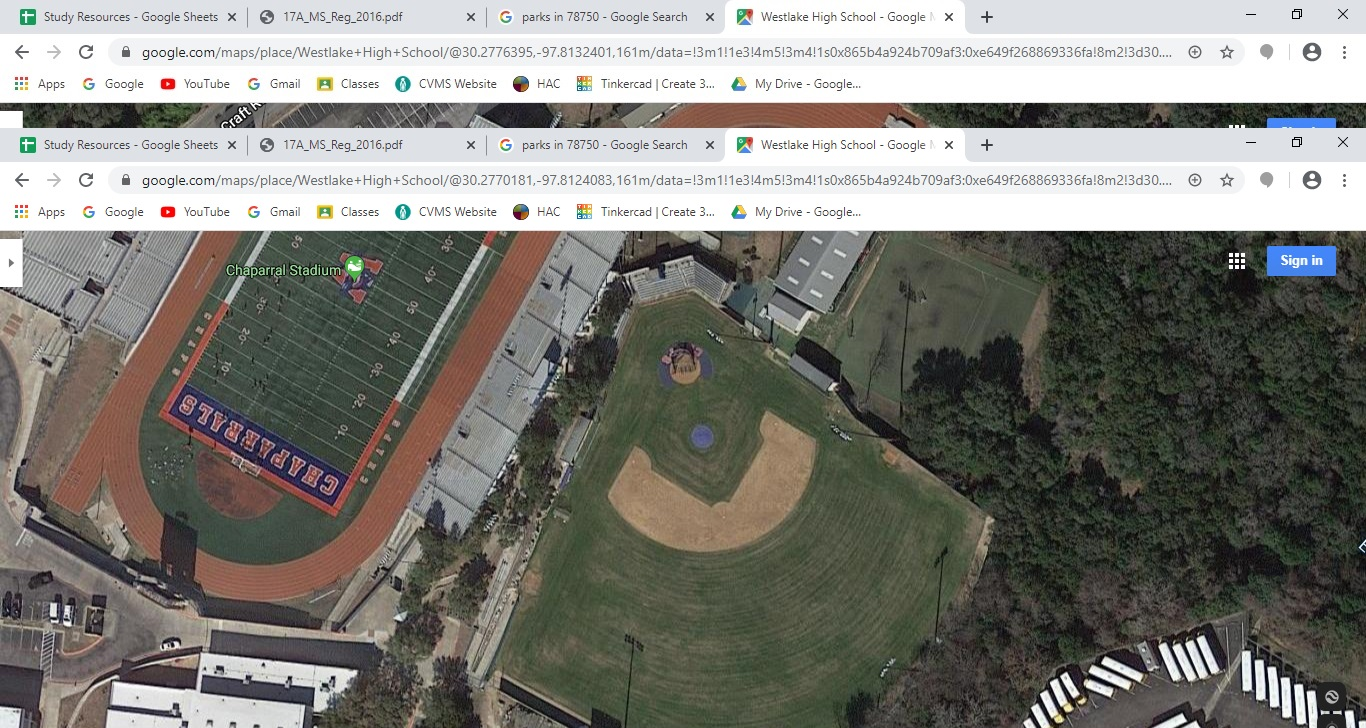baseball: (505, 284, 1020, 722)
football: (160, 242, 437, 508)
